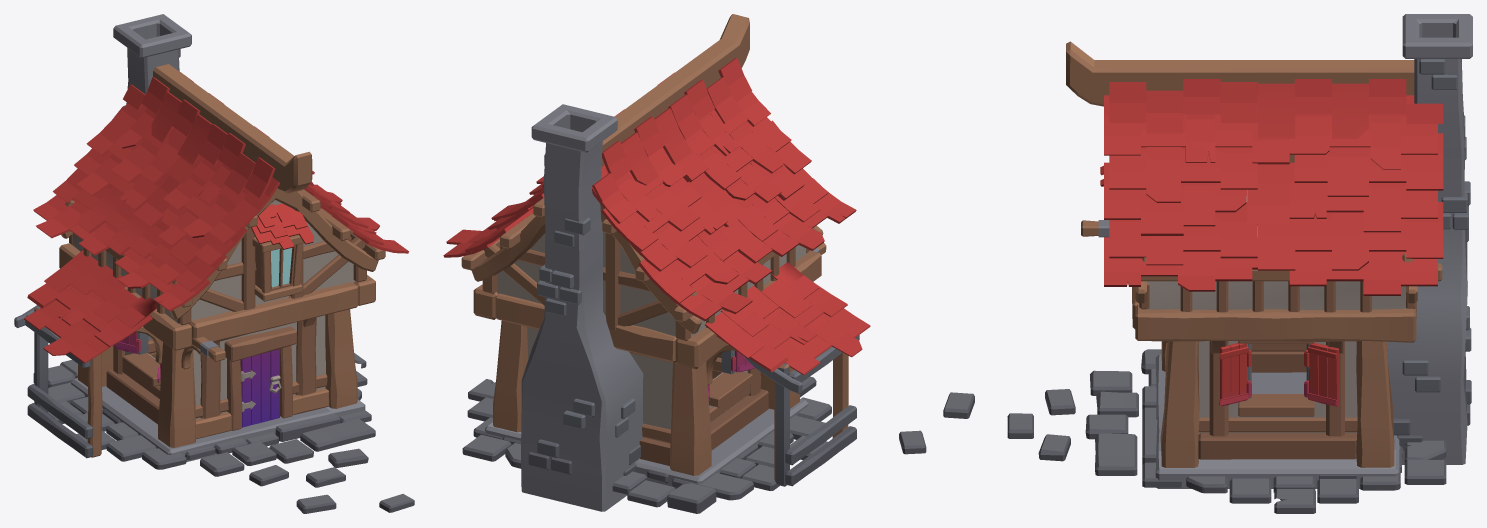
Rendered from maison.fbx.
3 renders of one model, left to right at view 1: azimuth 30°, elevation 25°; view 2: azimuth 150°, elevation 25°; view 3: azimuth 270°, elevation 25°, orthographic. The views are drawn at different scales.
Parts seen in each view (by area): view 1: Maison; view 2: Maison; view 3: Maison.
Part boxes in pixels (x1,y1,x2,y2): Maison: (14, 14, 414, 513); Maison: (443, 14, 870, 513); Maison: (899, 14, 1472, 513).
Size of the model in its own units: 569 by 560 by 704.
